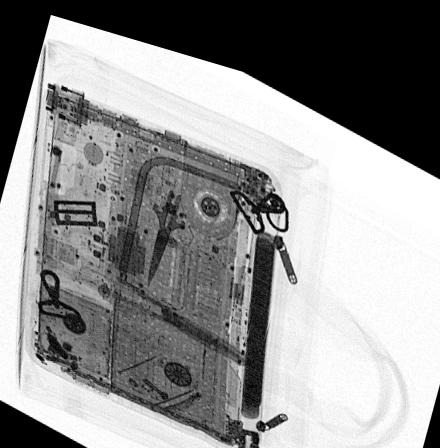Scissors: (61, 220, 251, 350), (143, 171, 189, 280)
